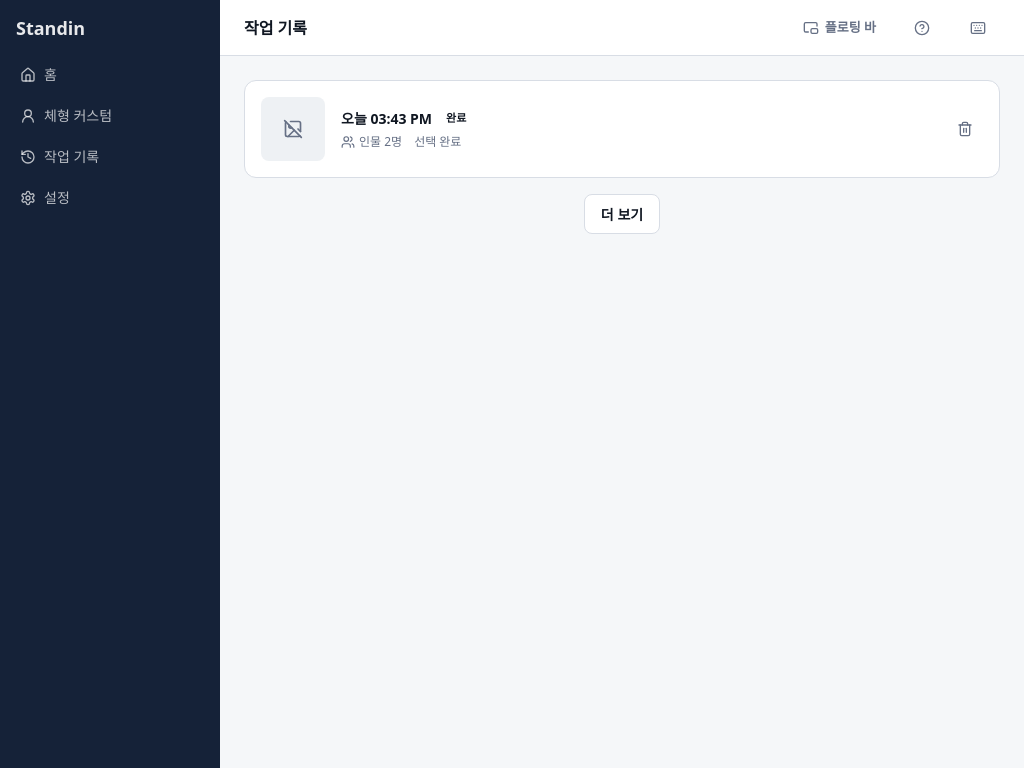
Test: JobHistoryPage › 다음 페이지가 있을 때만 더 보기를 낸다
The width and height of the screenshot is (1024, 768).
Click the button "더 보기" at (622, 214), box [584,194,660,234]
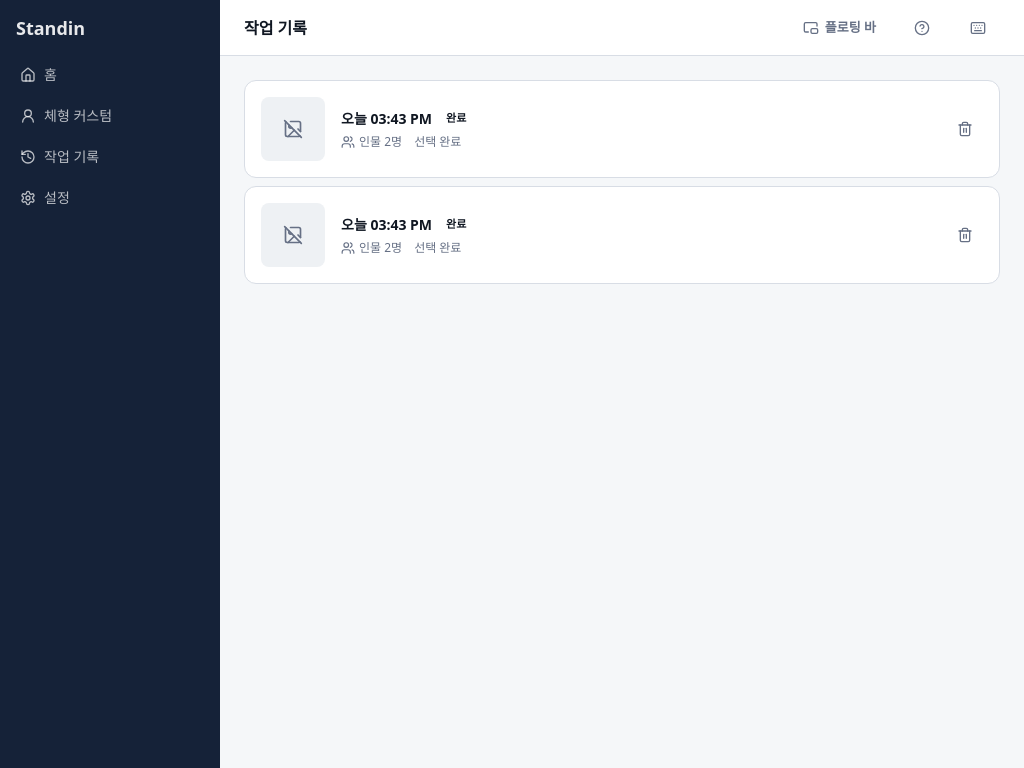
Expected: the button "더 보기" is gone
